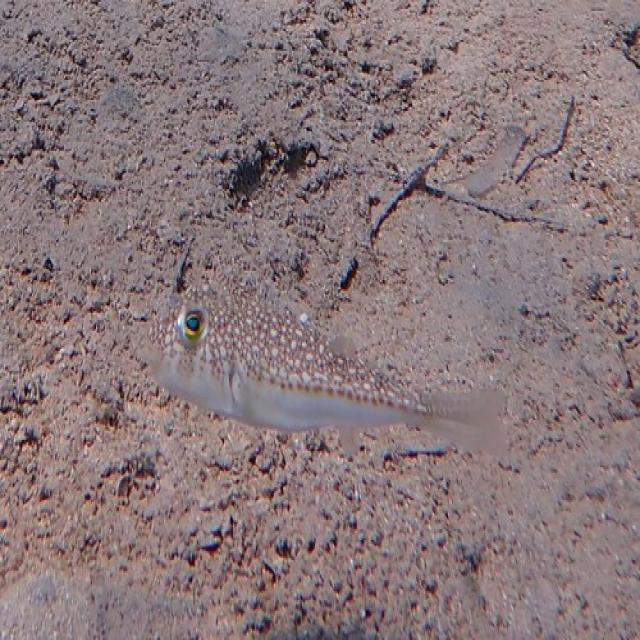Balik: (150, 290, 503, 454)
